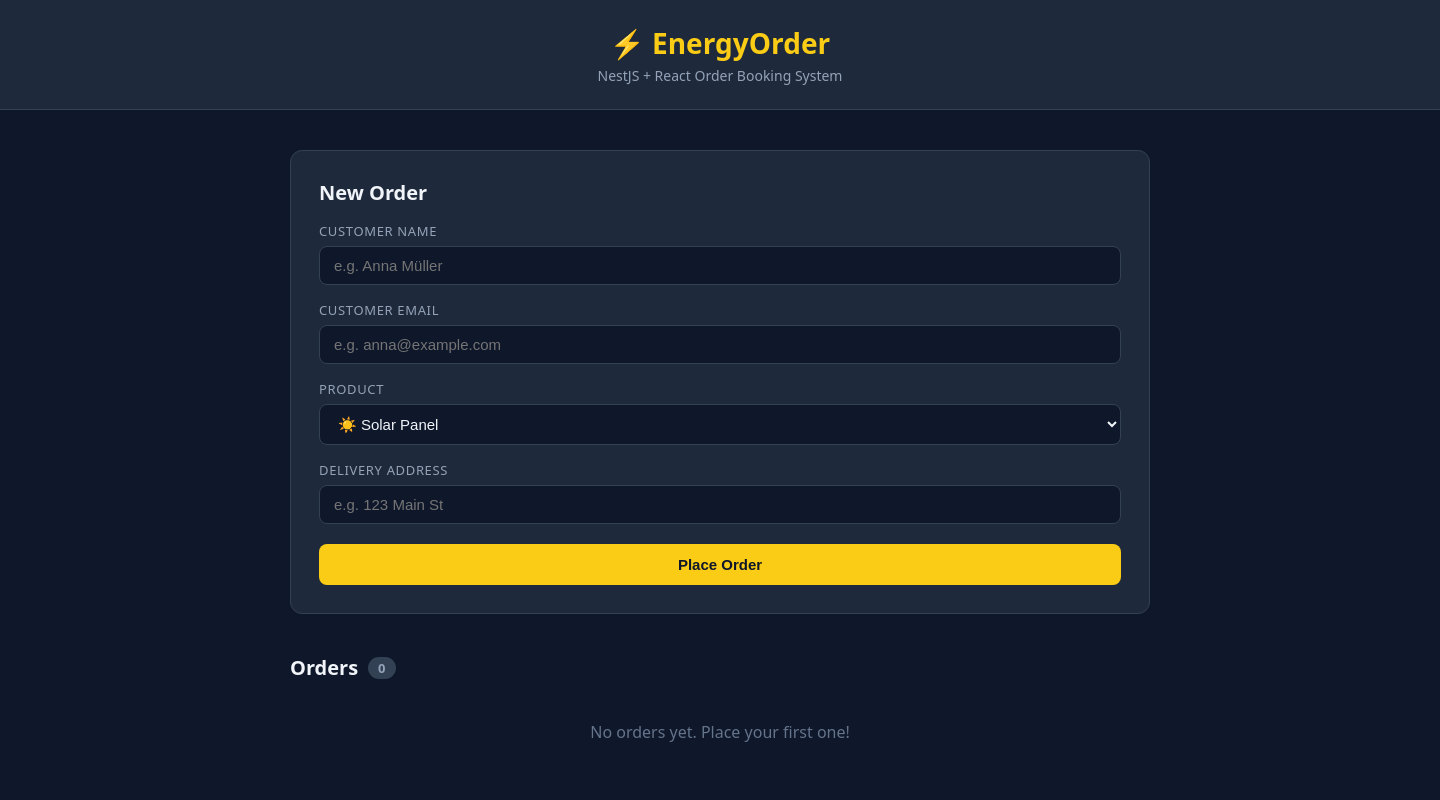
Test case: Form validation › clears the error after typing a name
Click the button "Place Order". click: (720, 564)
box: [319,544,1121,585]
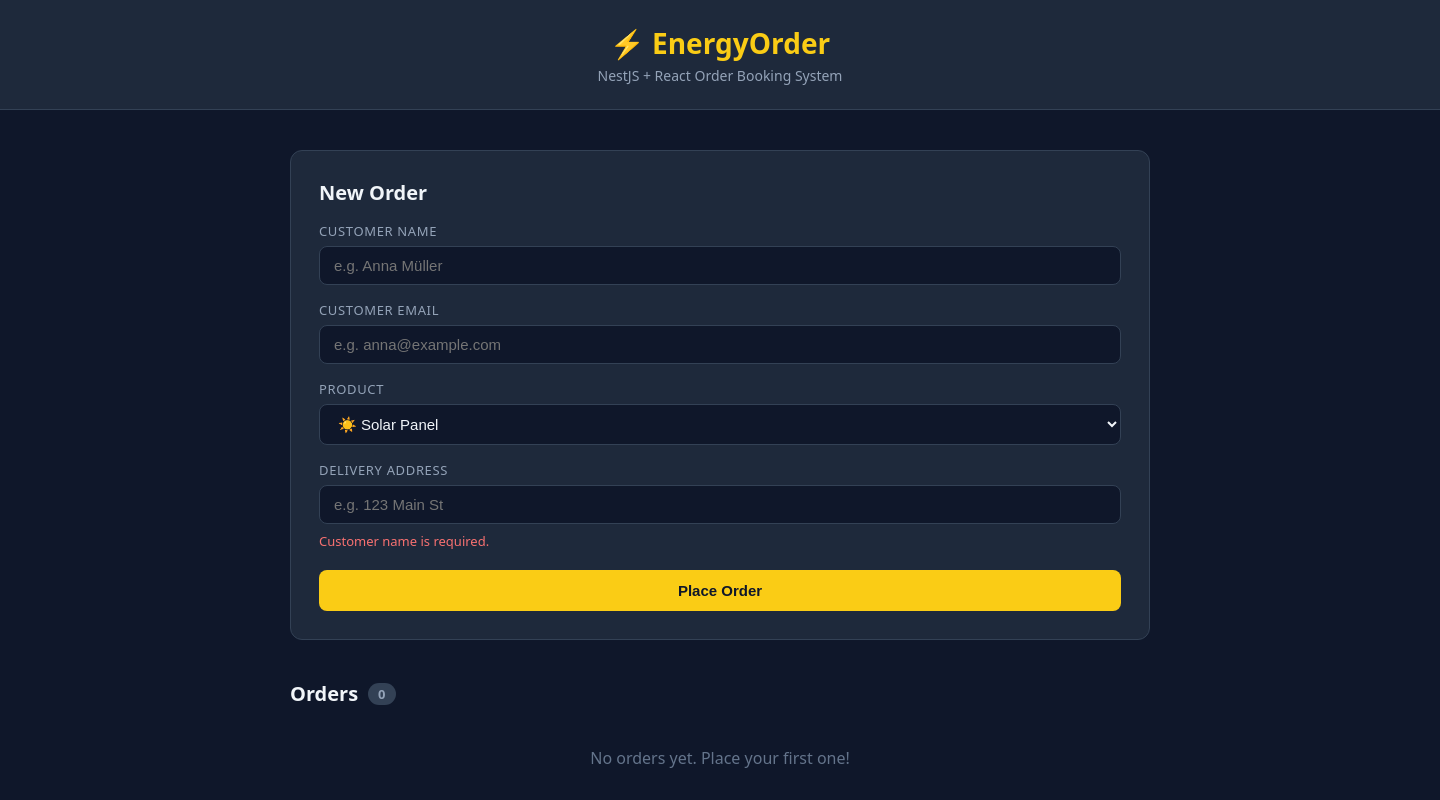
expect the text "Customer name is required." is shown: met, box [319,532,489,550]
Type "Test User" into the field with placeholder "e.g. Anna Müller". click: (720, 266)
box: [319,246,1121,285]
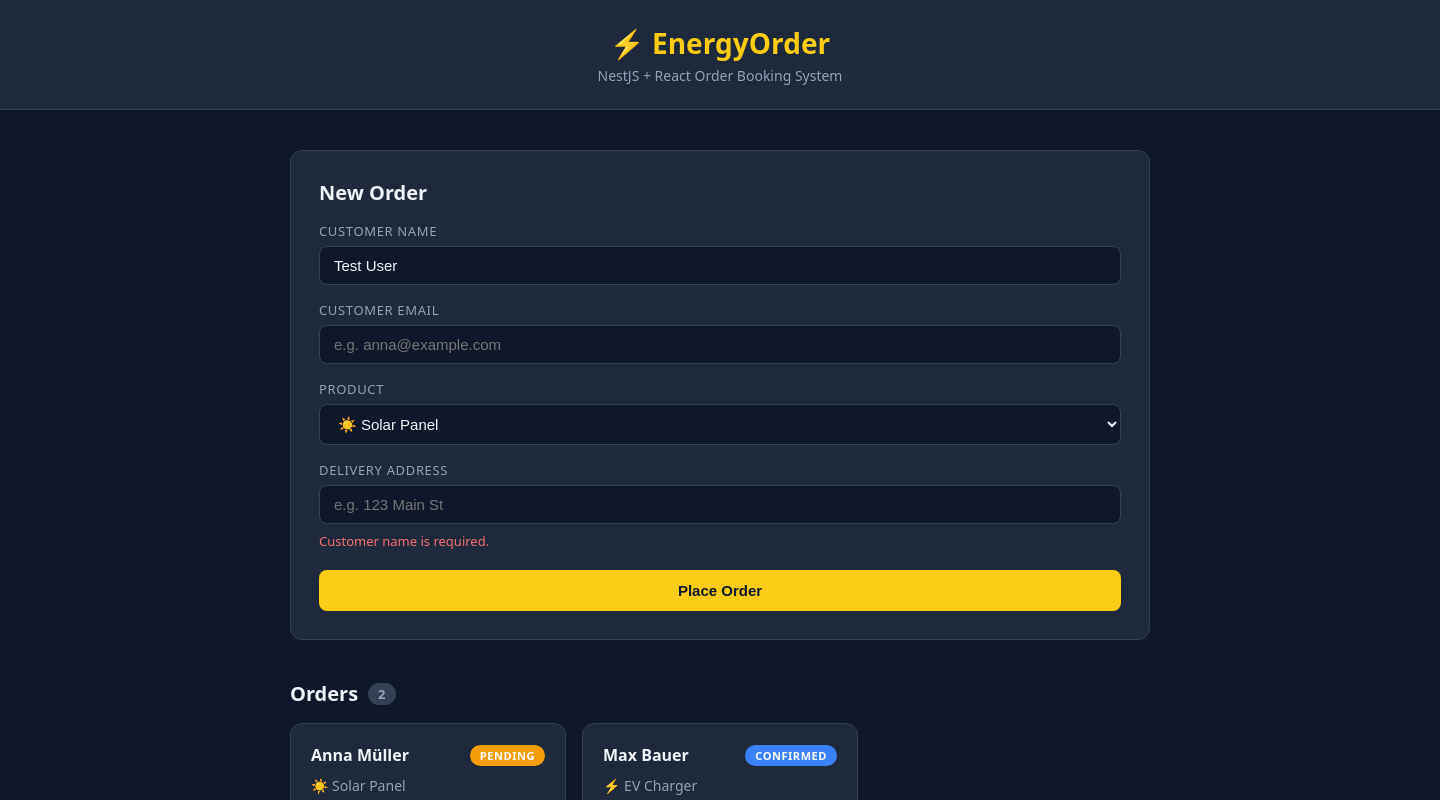
Click the button "Place Order". click: (720, 590)
box: [319,570,1121,611]
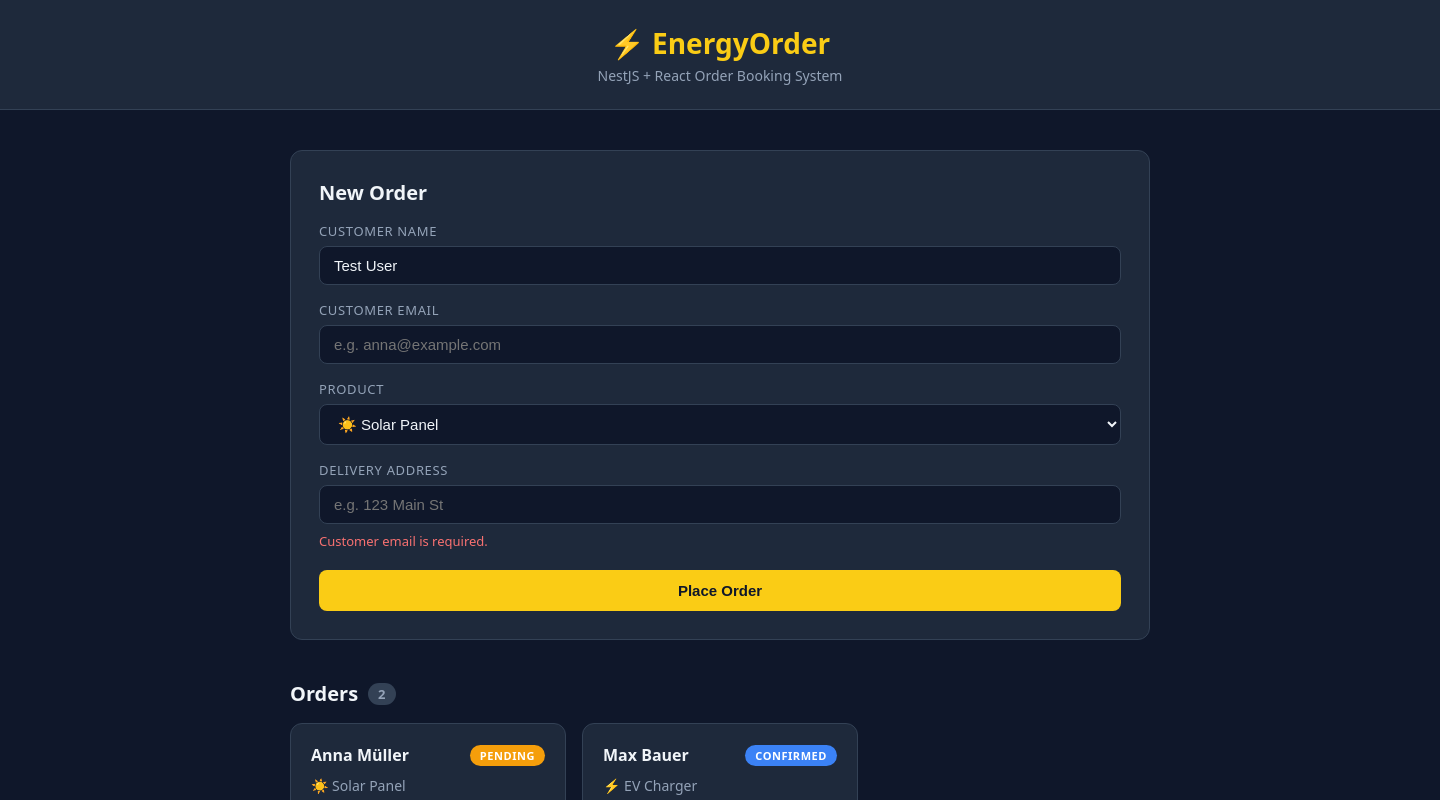
expect the text "Customer name is required" is gone: met
